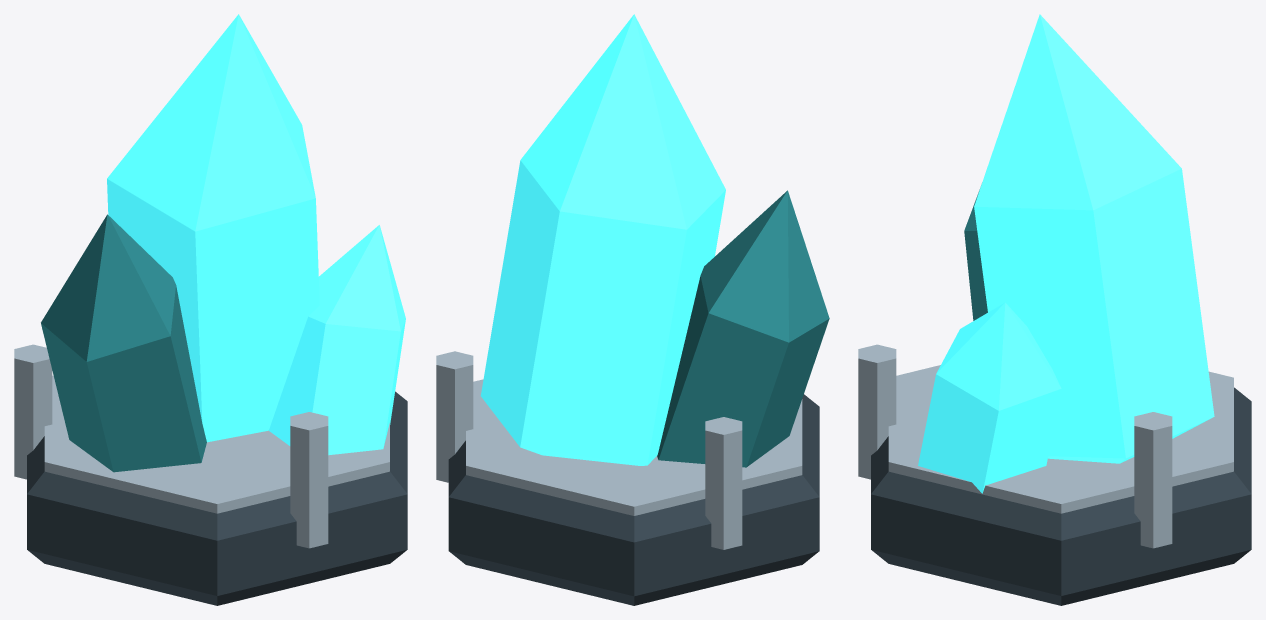
The model's file is loot_minerals.glb.
The picture shows the model from 3 angles, left to right: view 1: azimuth 30°, elevation 25°; view 2: azimuth 150°, elevation 25°; view 3: azimuth 270°, elevation 25°; orthographic projection. The views are drawn at different scales.
Parts seen in each view (by area): view 1: loot_minerals; view 2: loot_minerals; view 3: loot_minerals.
Boxes of the visible parts, bbox=[...] form: loot_minerals: bbox=[14, 14, 407, 605]; loot_minerals: bbox=[436, 14, 829, 605]; loot_minerals: bbox=[858, 14, 1251, 605].
Bounding box in the file's own units: 0.604 × 0.7774 × 0.5405.
